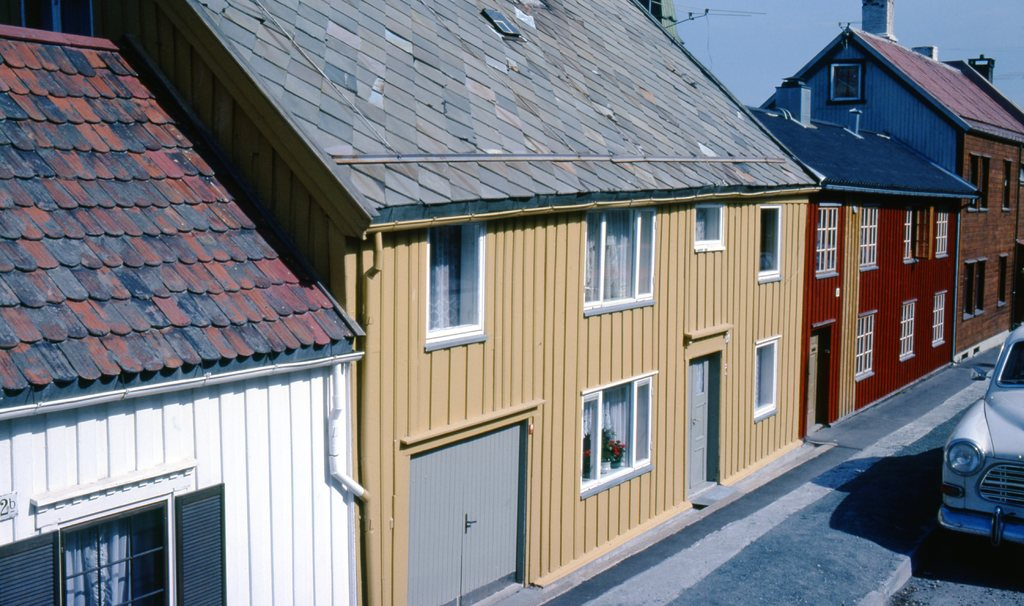Car: (937, 326, 1023, 540)
